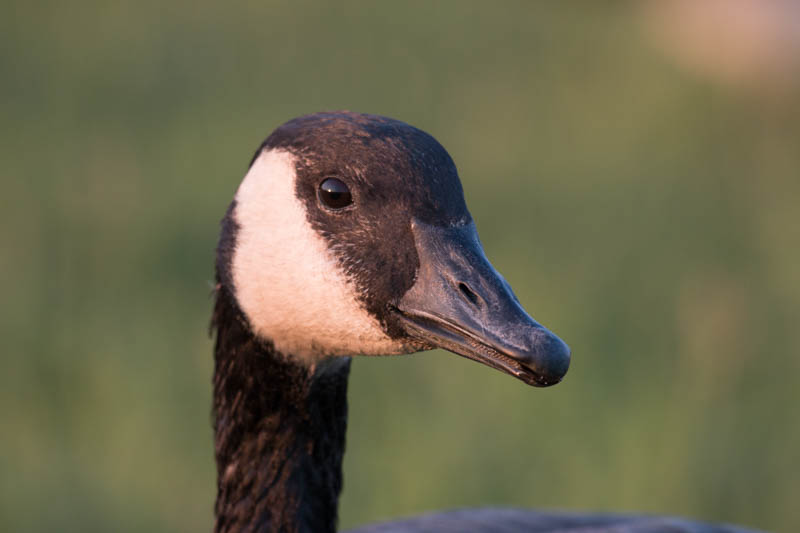goose-head: (214, 114, 570, 390)
